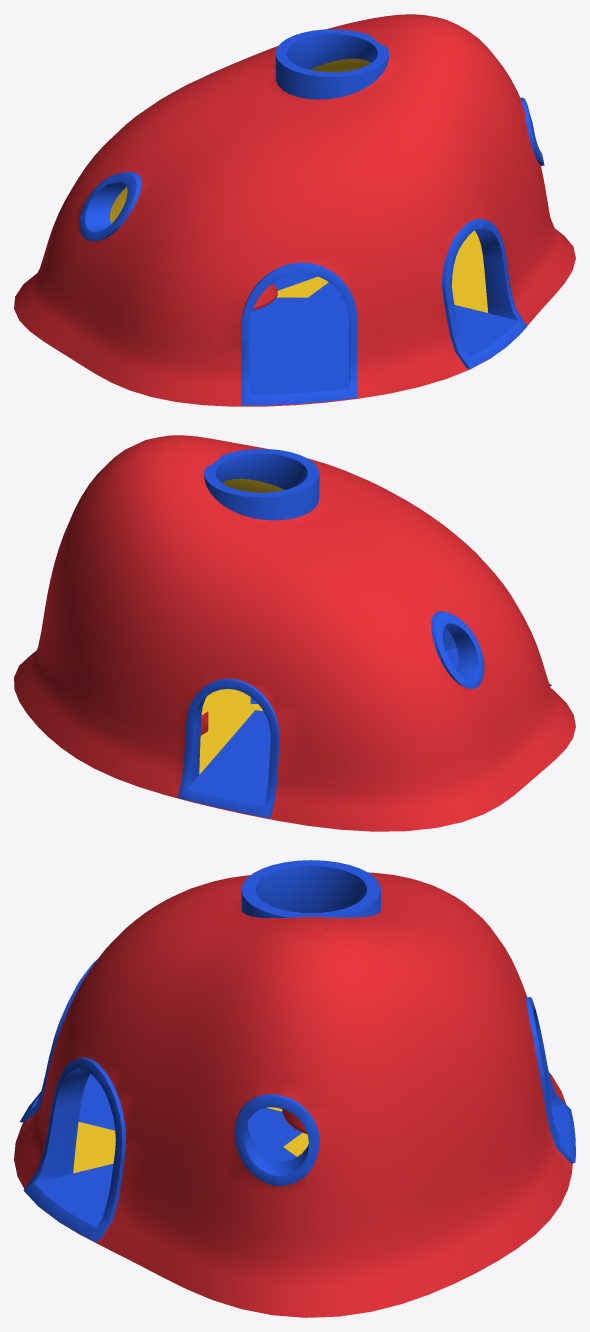
Rendered from adobe_12_skylight_commons.glb.
The picture shows the model from 3 angles, top to bottom: view 1: azimuth 30°, elevation 25°; view 2: azimuth 150°, elevation 25°; view 3: azimuth 270°, elevation 25°; orthographic projection. The views are drawn at different scales.
Parts seen in each view (by area): view 1: 12 • Skylight Commons; view 2: 12 • Skylight Commons; view 3: 12 • Skylight Commons.
Boxes of the visible parts, <box> form: 12 • Skylight Commons: <box>14,14,575,406</box>; 12 • Skylight Commons: <box>14,435,575,831</box>; 12 • Skylight Commons: <box>14,860,575,1317</box>.
Size of the model in its own units: 9.73 by 4.56 by 7.74.
